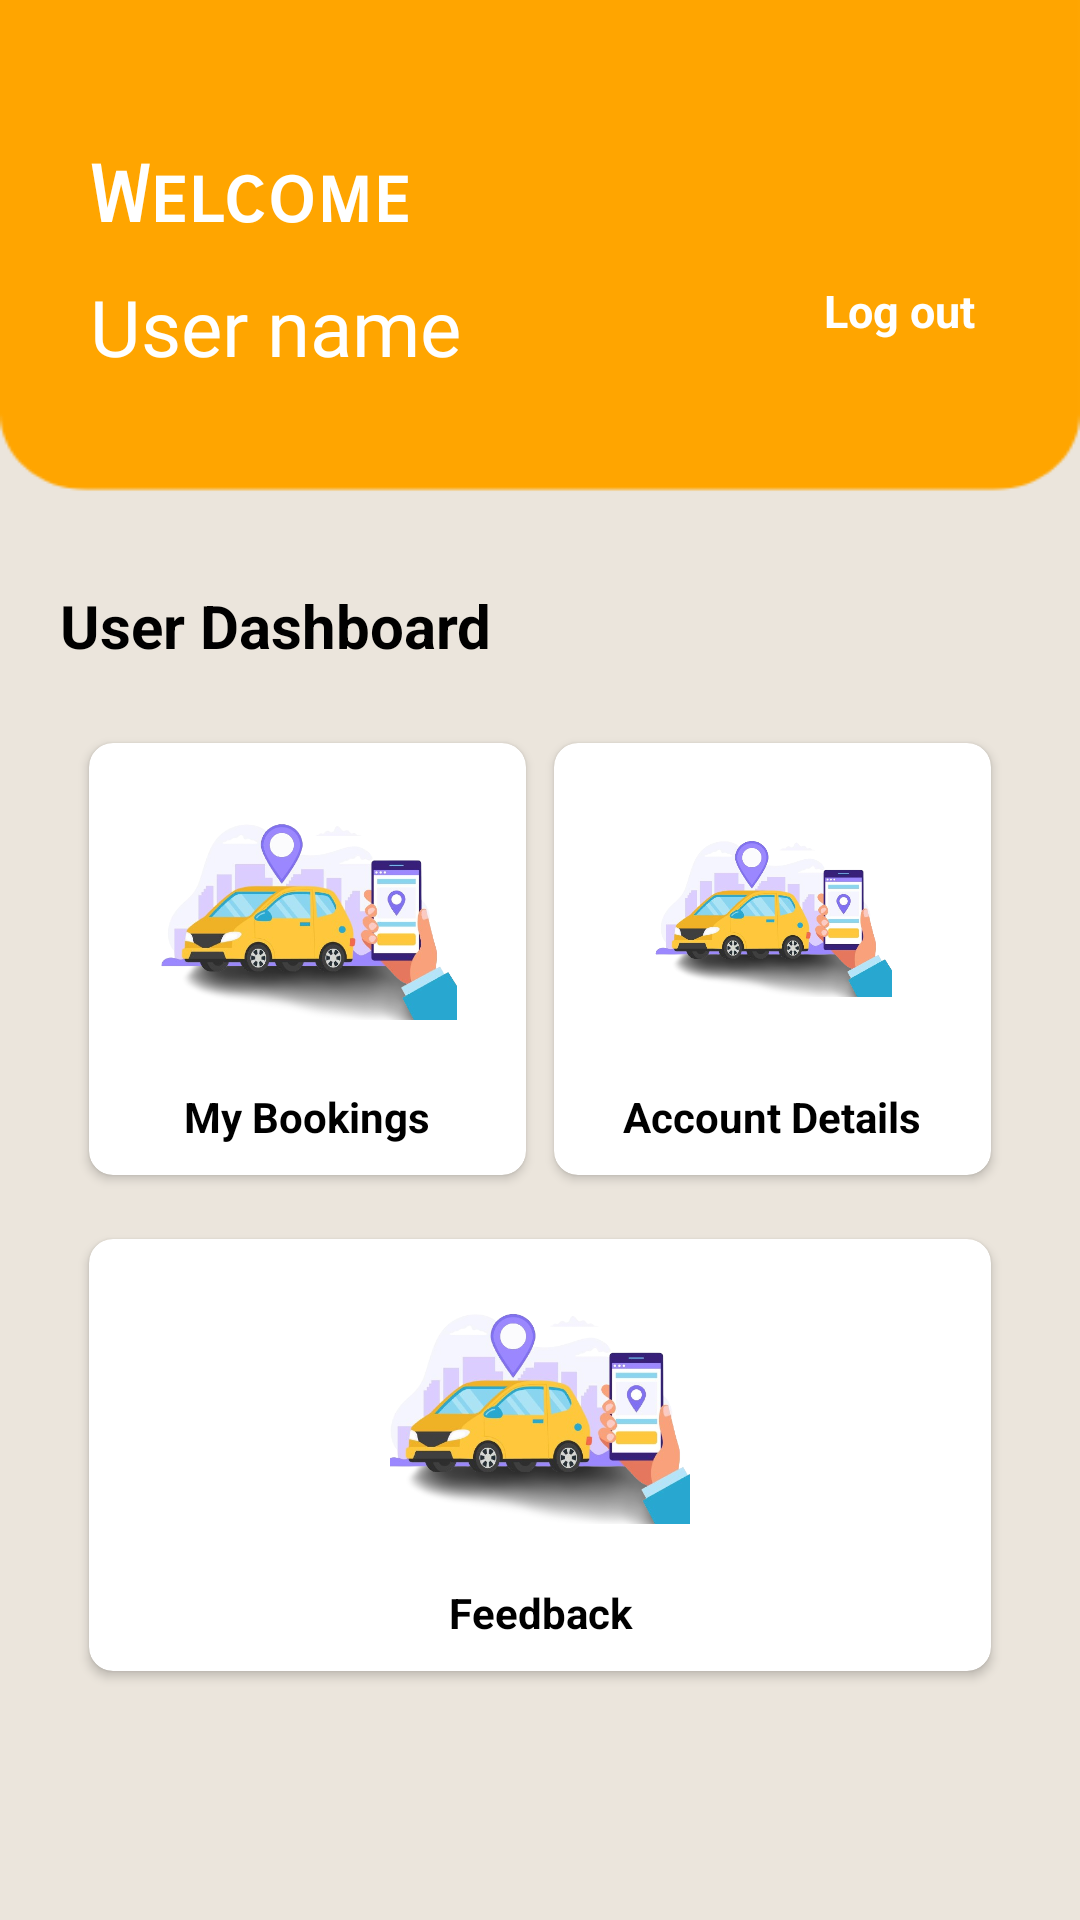

Named icons in this screenshot (1080px×1920px) and their bounding boxes, (x1, y1, x2, y2):
ride: (161, 824, 457, 1020), (655, 841, 892, 997), (390, 1314, 690, 1524)
